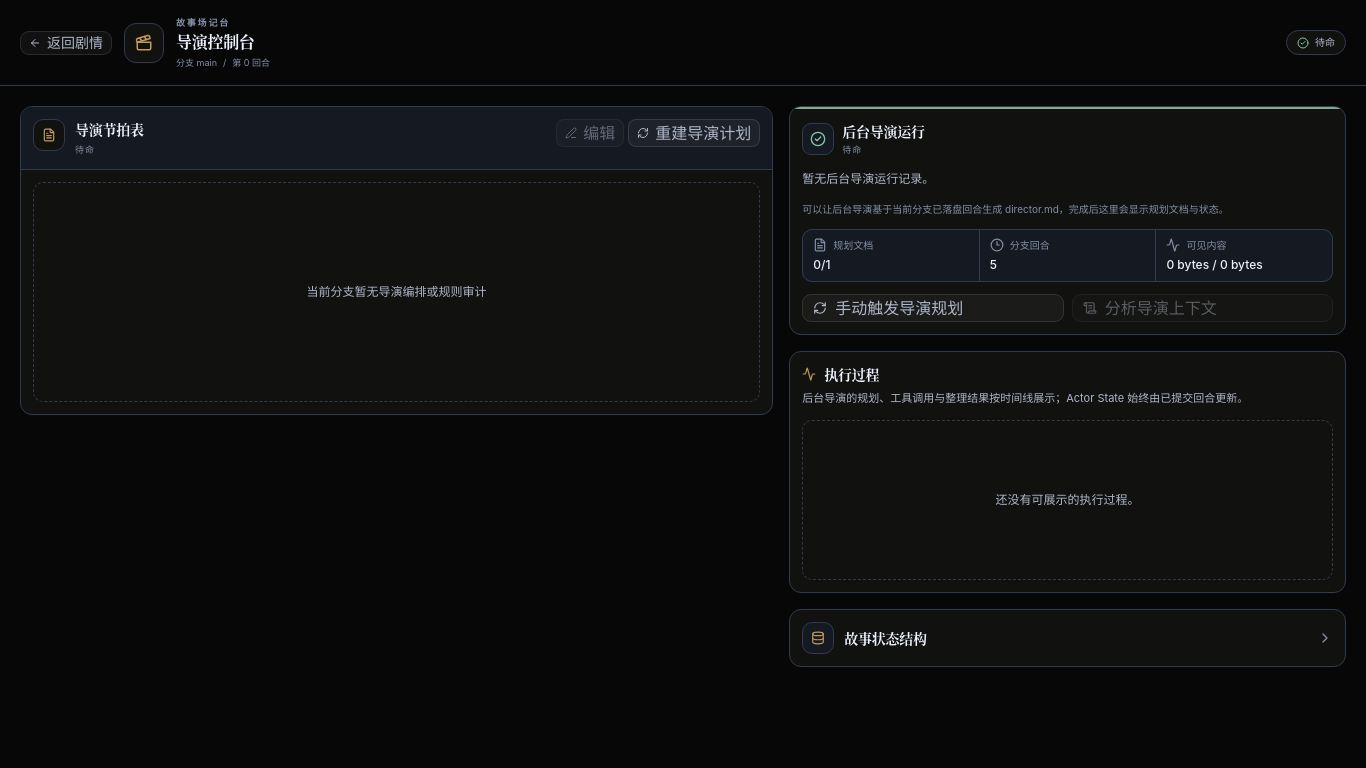
Scenario: DirectorBackstage › 状态结构卡默认折叠，点击后展开结构内容
Expected: the text "当前结构" is not shown
What coordinates should you click on to do the following:
click the button "故事状态结构"
I would click on:
 (818, 638)
Its box is [790,610,1345,666].
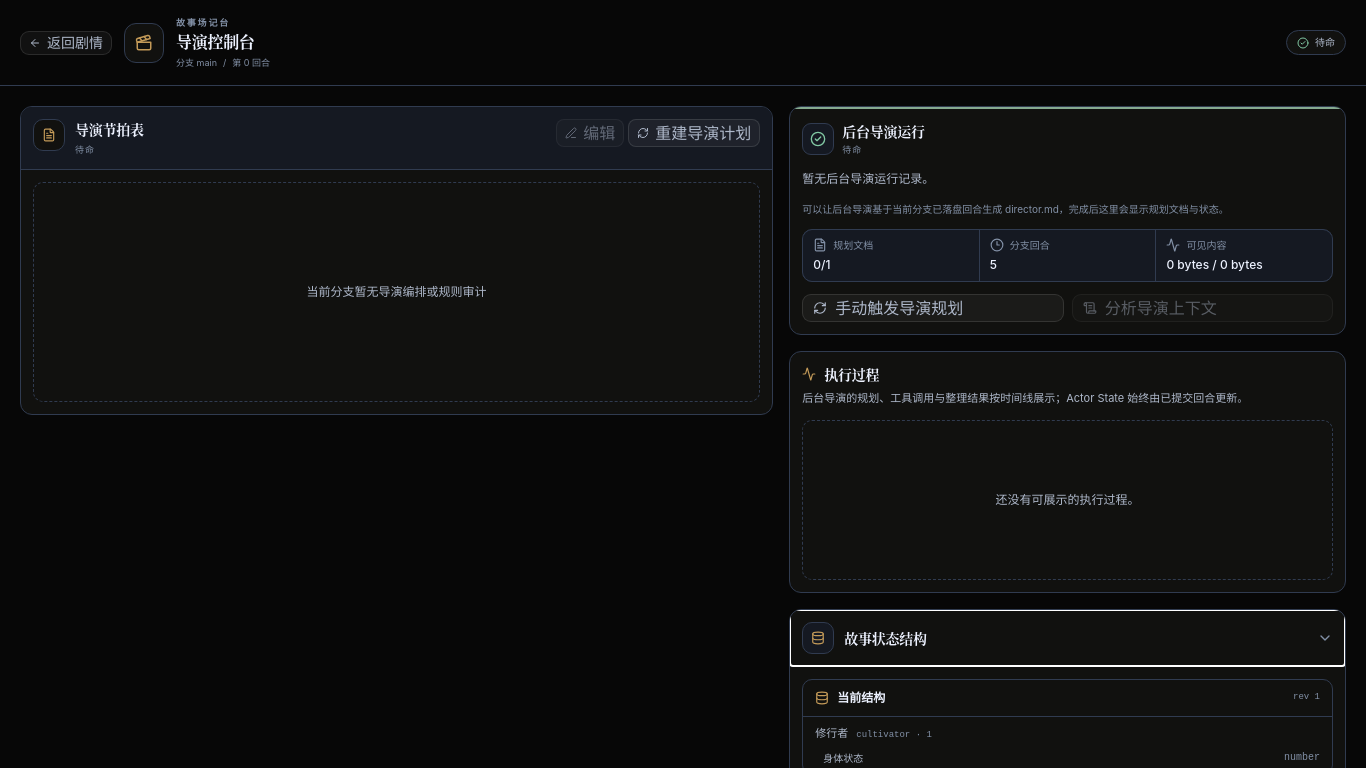
Expected: the text "当前结构" is shown, [815,690,885,706]
Expected: the text "修行者" is shown, [815,726,848,740]
